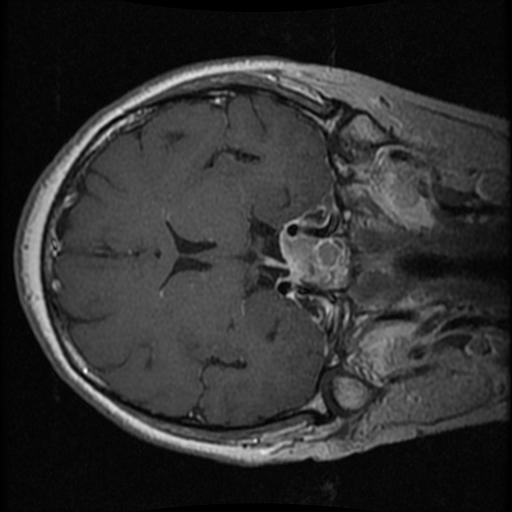pituitary tumour: (316, 240, 341, 269)
